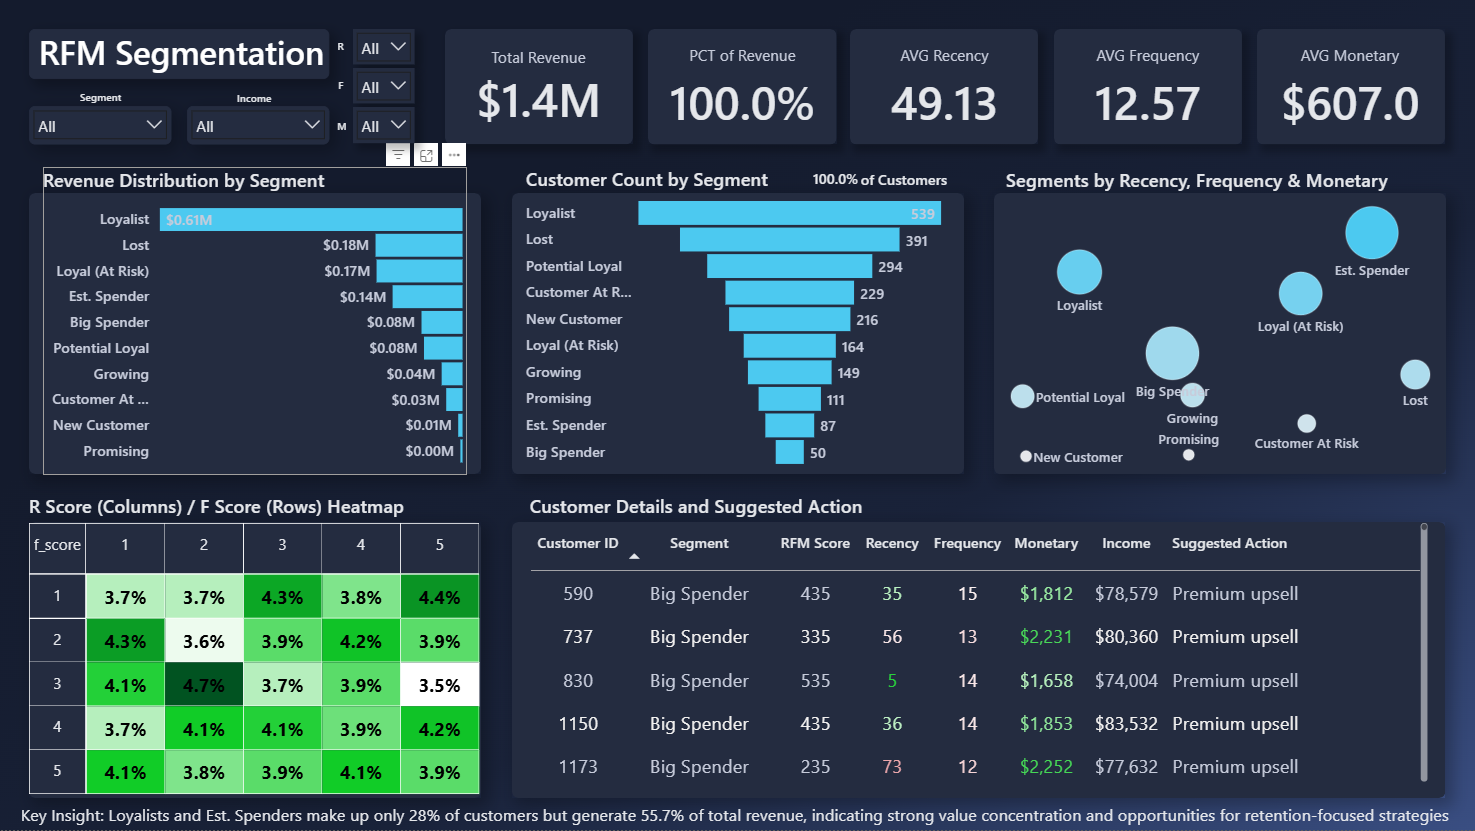

This screenshot's page, from the dashboard's own definition file:
{"tool":"powerbi","page":{"name":"Page 2","canvas":[1920,1080],"ordinal":0},"visuals":[{"type":"shape","box":[40.3,681.2,587.1,358.5],"z":0},{"type":"textbox","box":[40.8,40,389.7,65],"z":1000},{"type":"slicer","fields":{"Values":["data-[number redacted].rfm_segmenting"]},"box":[40.8,140.5,185,50],"z":2000},{"type":"slicer","fields":{"Values":["customer_dataset_cleaned.income_segment"]},"box":[245,140.5,185,49.9],"z":3000},{"type":"shape","box":[1292.9,253.2,587.1,365.2],"z":4000},{"type":"scatterChart","title":"Segments by Recency / Frequency & Monetary (Size)","fields":{"Y":["data-[number redacted].avg_frequency"],"X":["data-[number redacted].avg_recency"],"Size":["data-[number redacted].avg_monetary"],"Category":["data-[number redacted].rfm_segmenting"]},"box":[1308.5,218.1,574,399.8],"z":5000},{"type":"pivotTable","title":"R Score (Columns) / F Score (Rows) Heatmap","fields":{"Values":["data-[number redacted].pct_of_segment"],"Rows":["data-[number redacted].f_score"],"Columns":["data-[number redacted].r_score"]},"box":[40.8,643.4,587.6,395.8],"z":6000},{"type":"shape","box":[580.8,40.8,244,149.6],"z":7000},{"type":"cardVisual","fields":{"Data":["Sum(data-[number redacted].monetary)"]},"box":[550.1,39.2,304.8,151.8],"z":8000},{"type":"shape","box":[667.7,681.2,1212.2,358.5],"z":9000},{"type":"shape","box":[844.7,40.8,244.8,150],"z":10000},{"type":"cardVisual","fields":{"Data":["data-[number redacted].pct_of_monetary"]},"box":[826,39,283.1,151.9],"z":11000},{"type":"shape","box":[1106.9,40.3,244.2,150],"z":12000},{"type":"cardVisual","fields":{"Data":["data-[number redacted].avg_recency"]},"box":[1107.3,40.8,243.2,148],"z":13000},{"type":"tableEx","title":"Customer Details and Suggested Action","fields":{"Values":["data-[number redacted].customer_id","data-[number redacted].rfm_segmenting","Sum(data-[number redacted].rfm_score)","Sum(data-[number redacted].recency)","Sum(data-[number redacted].frequency)","Sum(data-[number redacted].monetary)","Sum(customer_dataset_cleaned.income)","data-[number redacted].suggested_action"]},"box":[685.6,643.1,1176.3,380],"z":14000},{"type":"shape","box":[1371.3,40.3,244.2,150],"z":15000},{"type":"cardVisual","fields":{"Data":["data-[number redacted].avg_frequency"]},"box":[1371.6,40.8,244.7,148],"z":16000},{"type":"shape","box":[1635.7,40.3,244.2,150],"z":17000},{"type":"cardVisual","fields":{"Data":["data-[number redacted].avg_monetary"]},"box":[1614.9,40.8,284,148],"z":18000},{"type":"shape","box":[667.7,253.2,587.1,365.2],"z":19000},{"type":"funnel","title":"Customer Count by Segment","fields":{"Category":["data-[number redacted].rfm_segmenting"],"Y":["data-[number redacted].count_customer"]},"box":[685.5,217.6,544.1,390.4],"z":20000},{"type":"shape","box":[40.3,253.2,587.1,365],"z":21000},{"type":"barChart","title":"Revenue Distribution by Segment","fields":{"Category":["data-[number redacted].rfm_segmenting"],"Y":["Sum(data-[number redacted].monetary)"]},"box":[58.9,219,549.9,400.3],"z":22000},{"type":"slicer","fields":{"Values":["data-[number redacted].r_score"]},"box":[460.6,40.6,80,46],"z":23000},{"type":"slicer","fields":{"Values":["data-[number redacted].f_score"]},"box":[460.7,91,80.1,46],"z":24000},{"type":"slicer","fields":{"Values":["data-[number redacted].m_score"]},"box":[460.4,141.8,80.2,47],"z":25000},{"type":"textbox","box":[24.6,1024,1875.4,56],"z":26000},{"type":"cardVisual","fields":{"Data":["data-[number redacted].pct_of_customers"]},"box":[1041.2,209.7,115.2,43.6],"z":27000},{"type":"textbox","box":[1115.8,217.6,139.4,39.4],"z":28000},{"type":"textbox","box":[434,47.7,22.8,32],"z":29000},{"type":"textbox","box":[434,98.8,22.8,29.9],"z":30000},{"type":"textbox","box":[434.9,151.9,23.2,29],"z":31000},{"type":"textbox","box":[106.2,119.9,53.9,17],"z":32000},{"type":"textbox","box":[310.8,120.3,46.5,16.6],"z":33000}]}

Visuals, with their boxes in screenshot pixels (x1, y1, x2, y2), scaled from the page's 1920x1080 canvas onto the 1475x831 screenshot:
shape: 31, 524, 482, 800
textbox: 31, 31, 331, 81
slicer - data-[number redacted].rfm_segmenting: 31, 108, 173, 147
slicer - customer_dataset_cleaned.income_segment: 188, 108, 330, 147
shape: 993, 195, 1444, 476
"Segments by Recency / Frequency & Monetary (Size)" scatterChart: 1005, 168, 1446, 475
"R Score (Columns) / F Score (Rows) Heatmap" pivotTable: 31, 495, 483, 800
shape: 446, 31, 634, 147
cardVisual - Sum(data-[number redacted].monetary): 423, 30, 657, 147
shape: 513, 524, 1444, 800
shape: 649, 31, 837, 147
cardVisual - data-[number redacted].pct_of_monetary: 635, 30, 852, 147
shape: 850, 31, 1038, 146
cardVisual - data-[number redacted].avg_recency: 851, 31, 1037, 145
"Customer Details and Suggested Action" tableEx: 527, 495, 1430, 787
shape: 1053, 31, 1241, 146
cardVisual - data-[number redacted].avg_frequency: 1054, 31, 1242, 145
shape: 1257, 31, 1444, 146
cardVisual - data-[number redacted].avg_monetary: 1241, 31, 1459, 145
shape: 513, 195, 964, 476
"Customer Count by Segment" funnel: 527, 167, 945, 468
shape: 31, 195, 482, 476
"Revenue Distribution by Segment" barChart: 45, 169, 468, 477
slicer - data-[number redacted].r_score: 354, 31, 415, 67
slicer - data-[number redacted].f_score: 354, 70, 415, 105
slicer - data-[number redacted].m_score: 354, 109, 415, 145
textbox: 19, 788, 1460, 830
cardVisual - data-[number redacted].pct_of_customers: 800, 161, 888, 195
textbox: 857, 167, 964, 198
textbox: 333, 37, 351, 61
textbox: 333, 76, 351, 99
textbox: 334, 117, 352, 139
textbox: 82, 92, 123, 105
textbox: 239, 93, 274, 105
